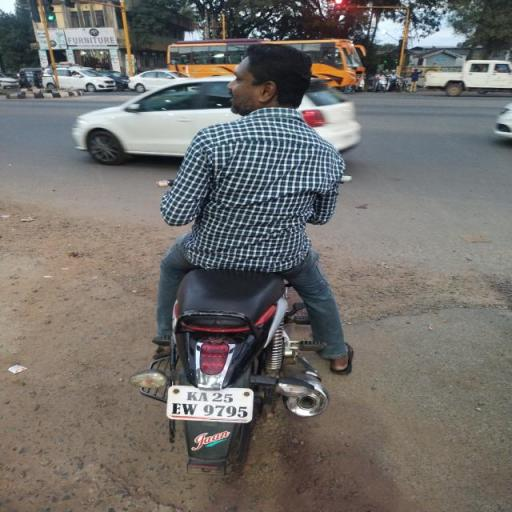bike: (128, 36, 382, 484)
numberplate: (170, 384, 256, 424)
withouthelmet: (227, 46, 310, 109)
